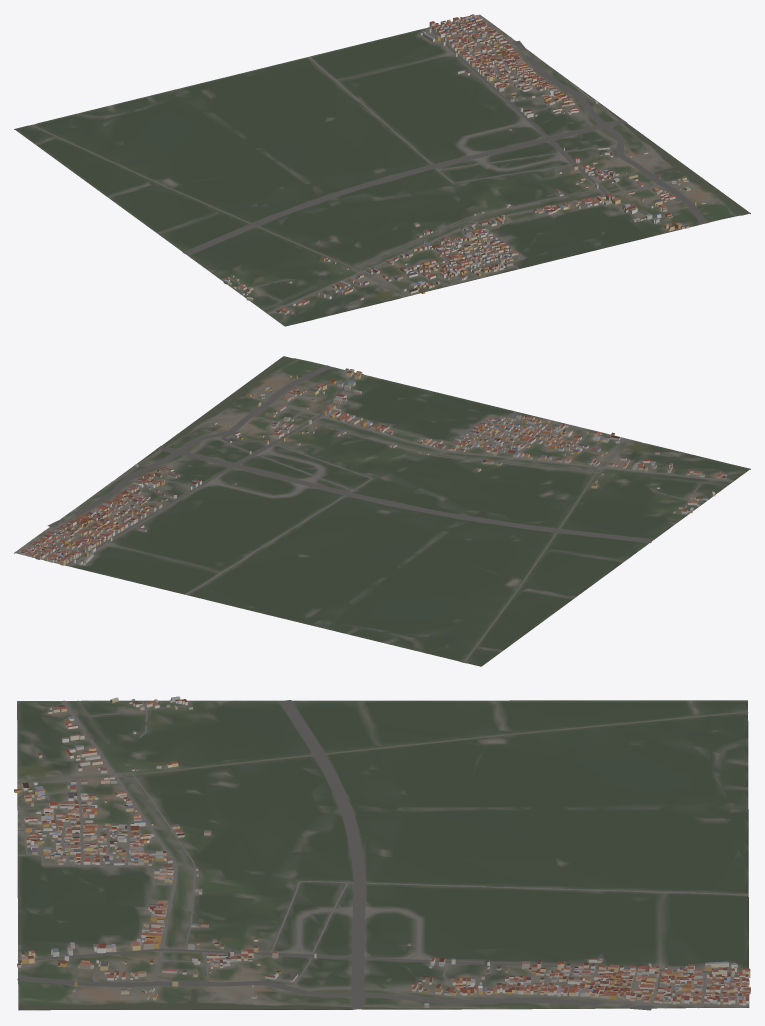
The picture shows the model from 3 angles, top to bottom: view 1: azimuth 30°, elevation 25°; view 2: azimuth 150°, elevation 25°; view 3: azimuth 270°, elevation 25°; orthographic projection. The views are drawn at different scales.
Parts seen in each view (by area): view 1: ground, buildings, roads, water; view 2: ground, buildings, roads, water; view 3: ground, buildings, roads, water.
Boxes of the visible parts, box(x1,y1,x2,y2) form: ground: box(14, 14, 750, 326); buildings: box(223, 14, 705, 314); roads: box(183, 15, 707, 314); water: box(31, 89, 749, 299); ground: box(14, 358, 750, 666); buildings: box(18, 368, 726, 565); roads: box(16, 365, 733, 594); water: box(116, 356, 643, 662); ground: box(17, 700, 749, 1010); buildings: box(14, 696, 750, 1007); roads: box(17, 700, 749, 1010); water: box(18, 711, 748, 1009).
Size of the model in its own units: 1409 by 21.31 by 1413.
